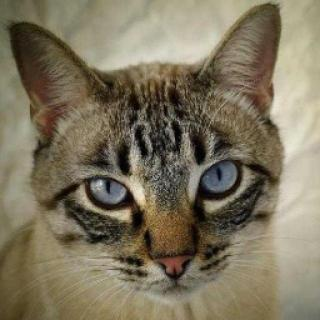cat: (8, 12, 300, 302)
nose: (142, 224, 200, 286)
